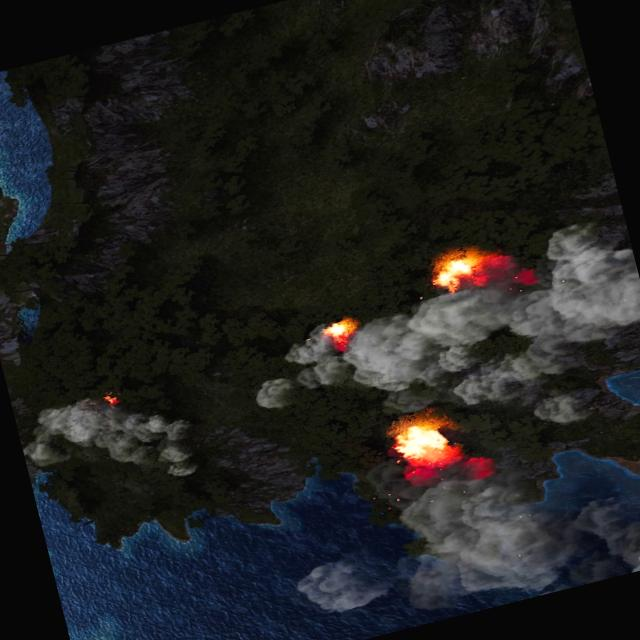fire: (386, 414, 458, 472), (429, 245, 492, 292), (322, 316, 360, 349), (102, 392, 120, 405)
smoke: (233, 209, 640, 494), (357, 403, 640, 631), (13, 372, 203, 512), (288, 544, 396, 620)
